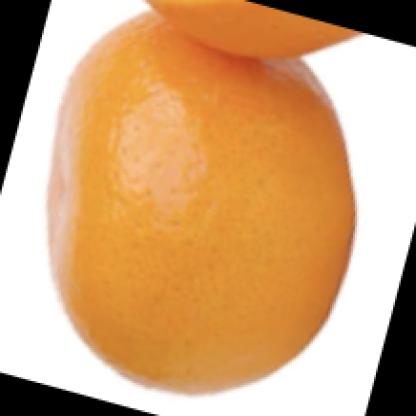fresh: (49, 1, 354, 399)
